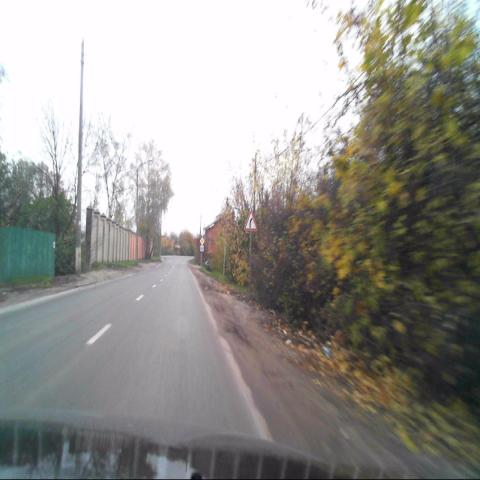1_11: (244, 209, 257, 231)
